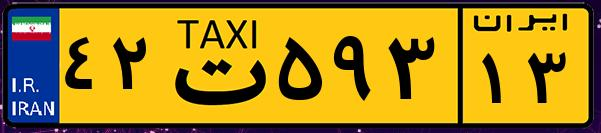1: (475, 38, 525, 113)
2: (110, 28, 158, 98)
3: (385, 28, 445, 110), (525, 38, 570, 115)
4: (57, 26, 110, 100)
5: (270, 28, 330, 110)
9: (330, 28, 385, 110)
ت: (158, 12, 270, 120)
